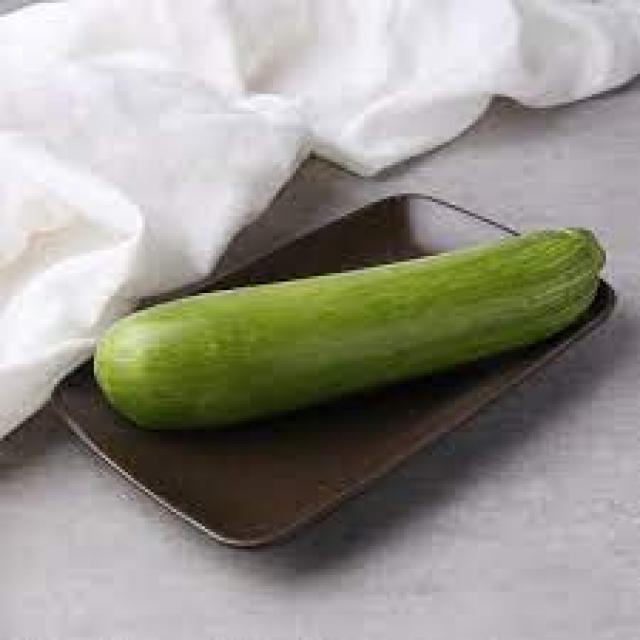Yogurt cup: (94, 230, 606, 431)
